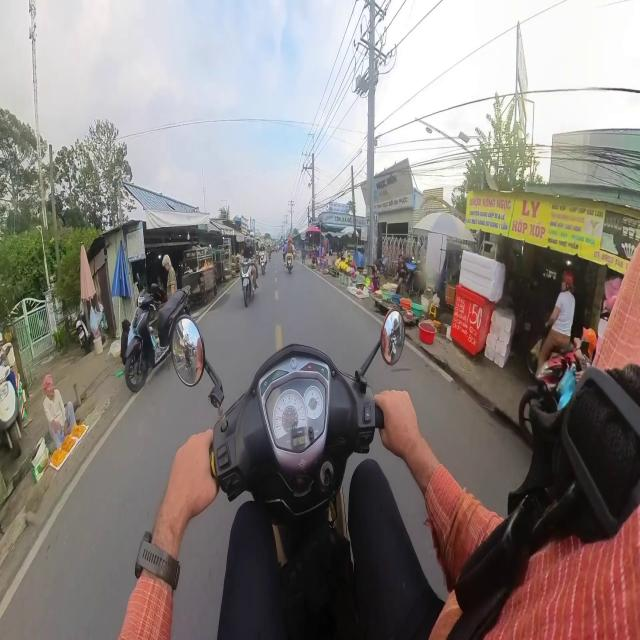motorcycle: (172, 310, 404, 638), (125, 285, 190, 392), (519, 345, 581, 443), (0, 365, 21, 458), (76, 310, 93, 352), (241, 259, 253, 306), (286, 254, 293, 273), (260, 252, 266, 274)
